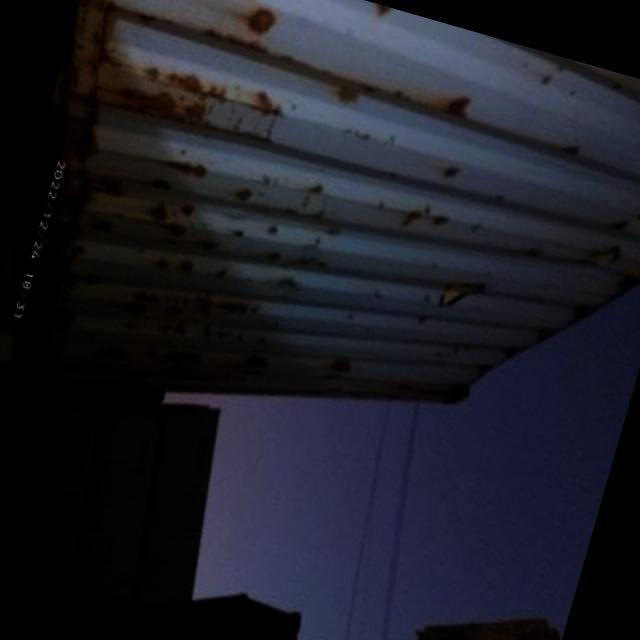rust: (17, 65, 146, 385), (107, 341, 196, 398), (130, 76, 199, 138), (147, 194, 184, 242), (317, 351, 348, 393), (115, 298, 154, 329), (230, 358, 267, 381)
